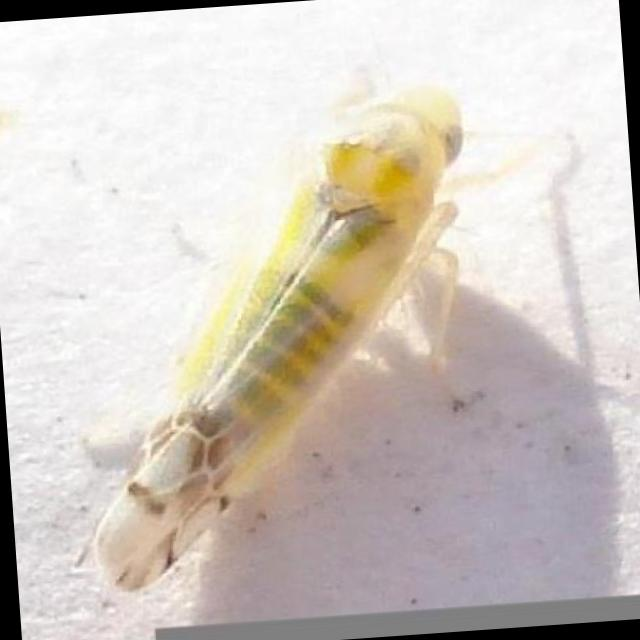green-leafhopper: (91, 78, 473, 598)
